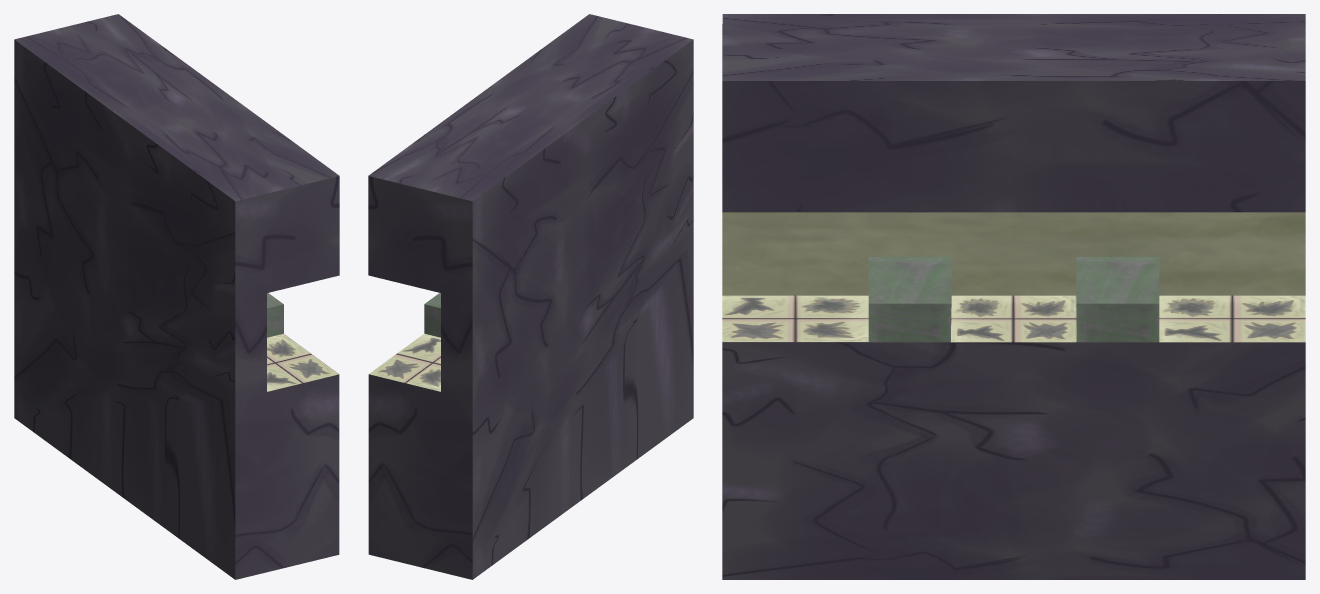
The model's file is abandoned.fbx.
3 renders of one model, left to right at view 1: azimuth 30°, elevation 25°; view 2: azimuth 150°, elevation 25°; view 3: azimuth 270°, elevation 25°, orthographic. The views are drawn at different scales.
Visible parts, largest first — view 1: abandoned; view 2: abandoned; view 3: abandoned.
Part boxes in pixels (bbox=[...]): abandoned: bbox=[14, 14, 339, 579]; abandoned: bbox=[368, 14, 693, 579]; abandoned: bbox=[722, 14, 1305, 579].
Size of the model in its own units: 2767 by 9593 by 10163.
Materials: 1 (1 with a texture image).
